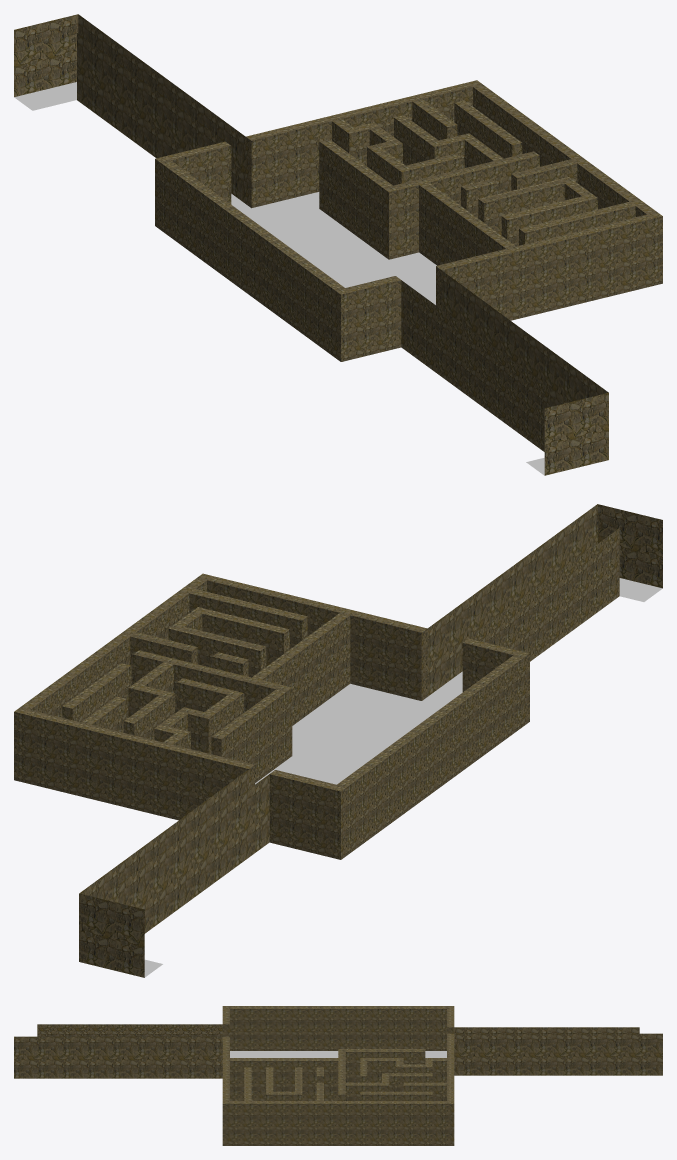
3 views of the same model, one above another, from view 1: azimuth 30°, elevation 25°; view 2: azimuth 150°, elevation 25°; view 3: azimuth 270°, elevation 25° (orthographic). The views are drawn at different scales.
Parts seen in each view (by area): view 1: Plane_Plane.001; view 2: Plane_Plane.001; view 3: Plane_Plane.001.
Boxes of the visible parts, x1,y1,x2,y2 form: Plane_Plane.001: (14, 14, 662, 475); Plane_Plane.001: (14, 504, 662, 977); Plane_Plane.001: (14, 1006, 662, 1145).
Bounding box in the file's own units: 20 × 4 × 56.
